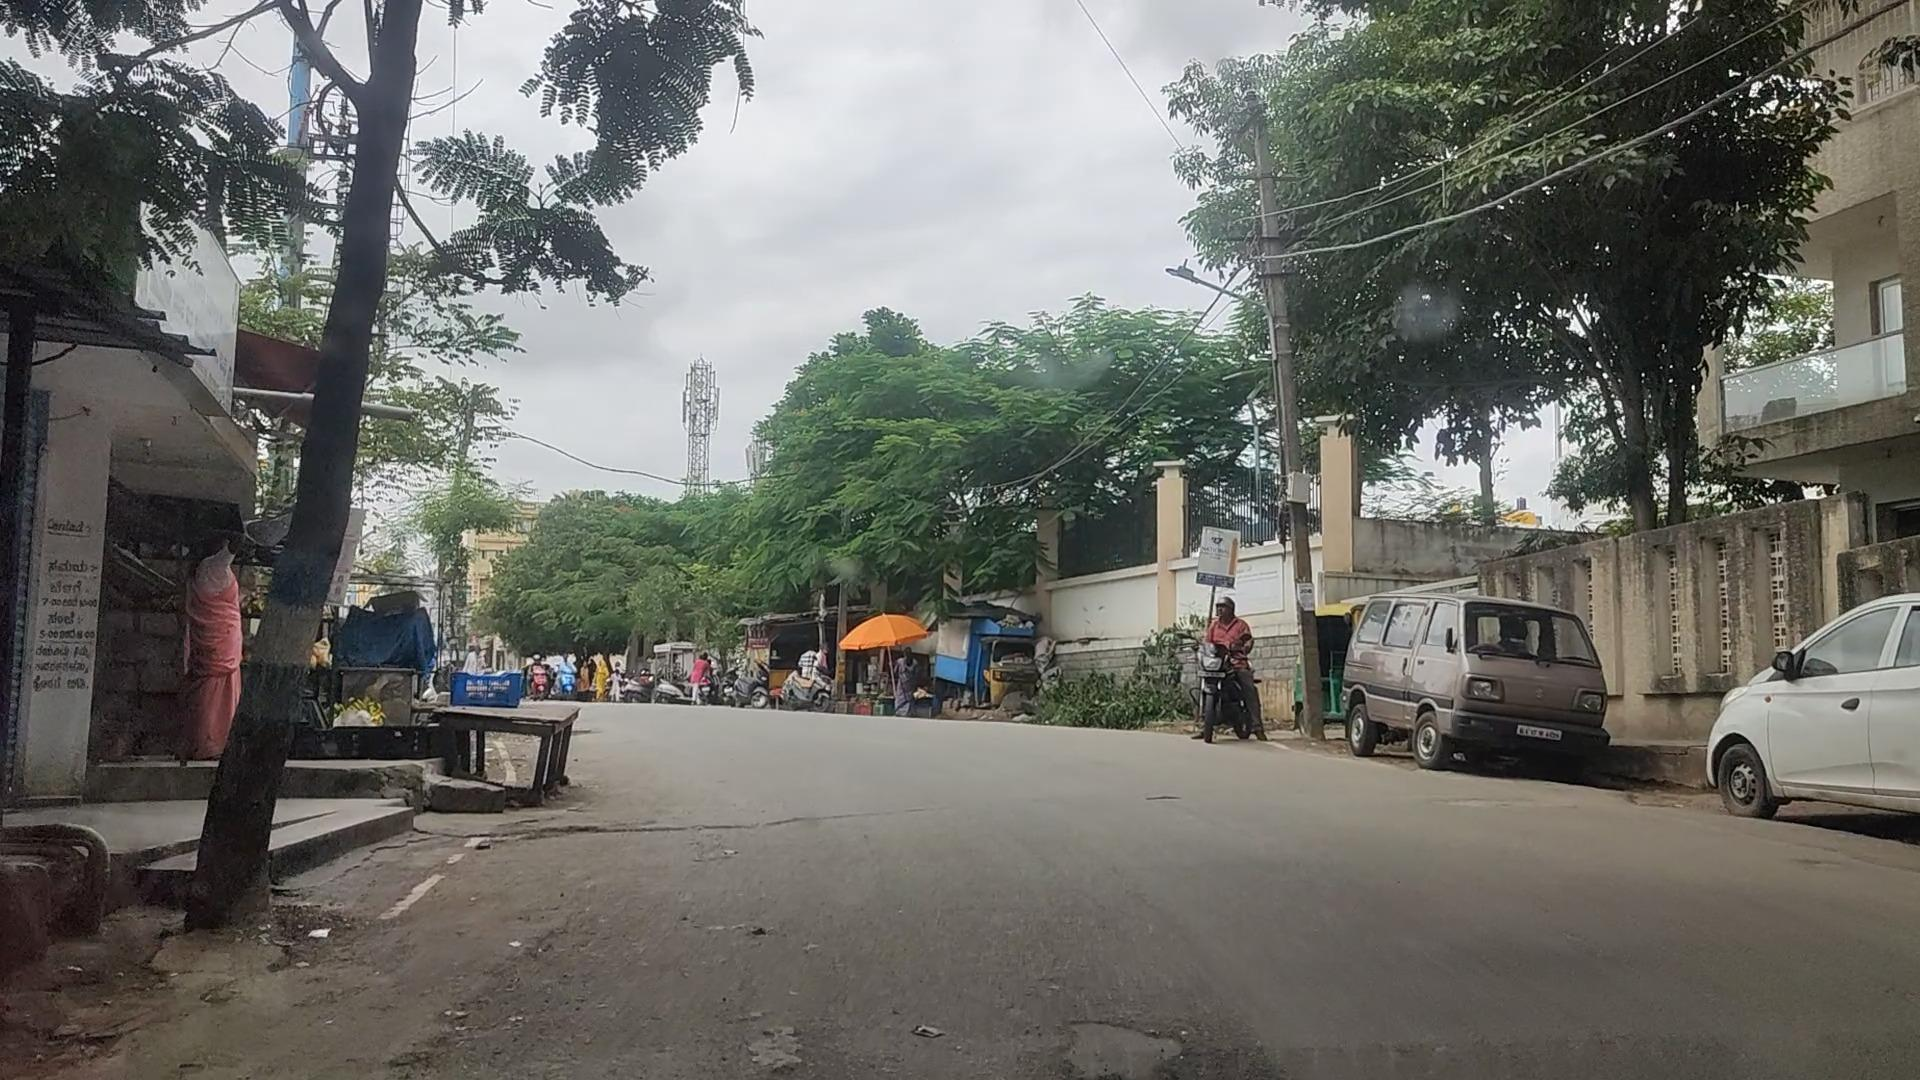RoadDamages: (1023, 940, 1216, 1080)
